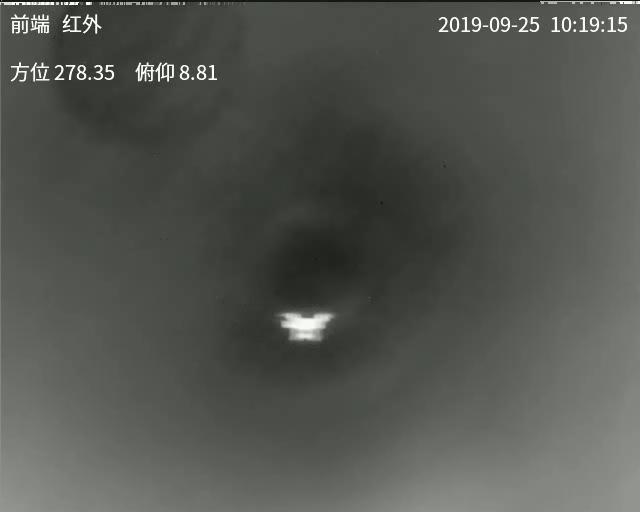uav: (275, 306, 335, 346)
